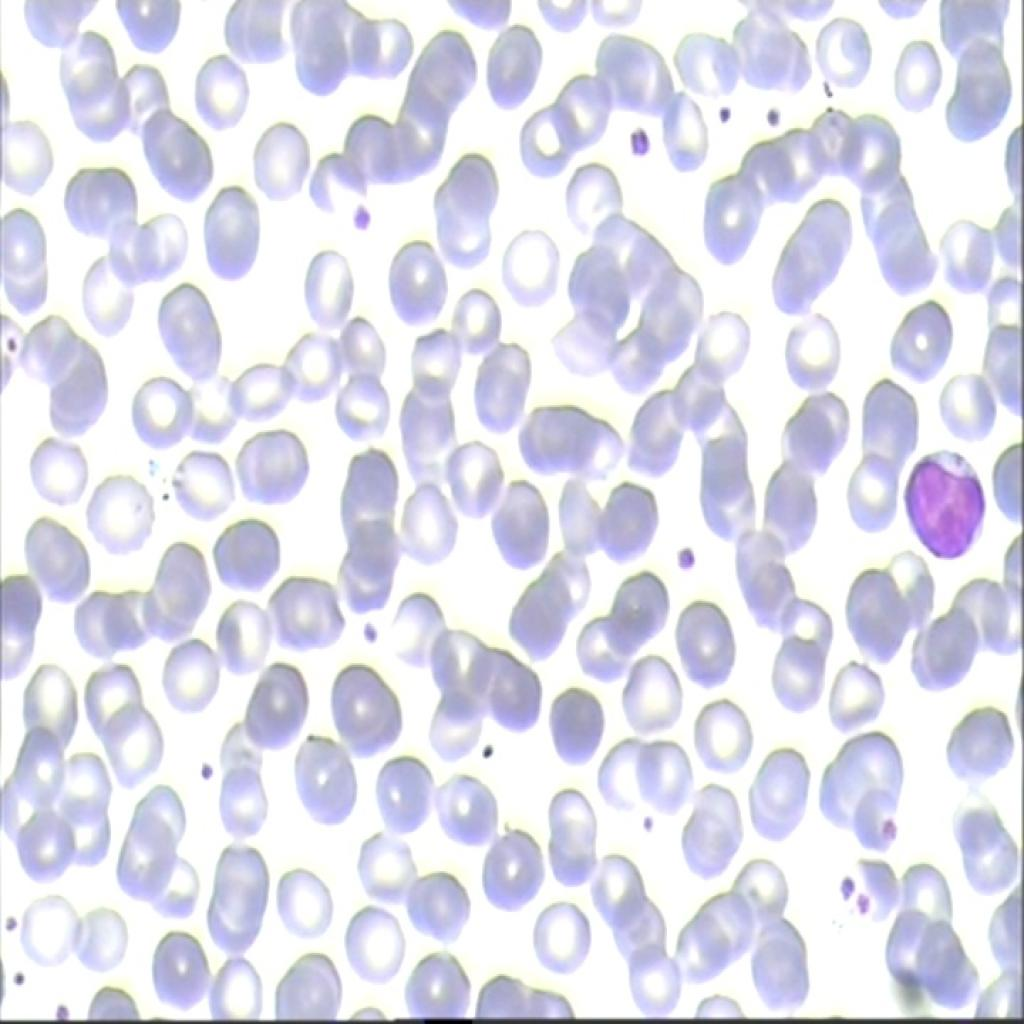Limfosit: (896, 426, 990, 578)
Platelet: (186, 743, 238, 800), (606, 117, 658, 169), (356, 602, 394, 660), (343, 183, 378, 237), (703, 94, 745, 139), (670, 533, 705, 585), (751, 98, 791, 138), (1, 958, 27, 999), (878, 810, 908, 844), (44, 999, 80, 1022), (832, 864, 853, 901), (2, 906, 24, 940), (849, 889, 873, 919), (637, 809, 659, 837)
